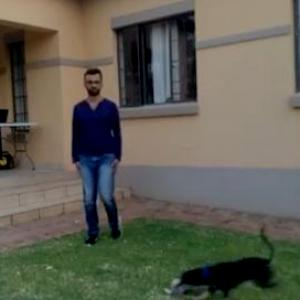follow: (68, 67, 127, 247)
